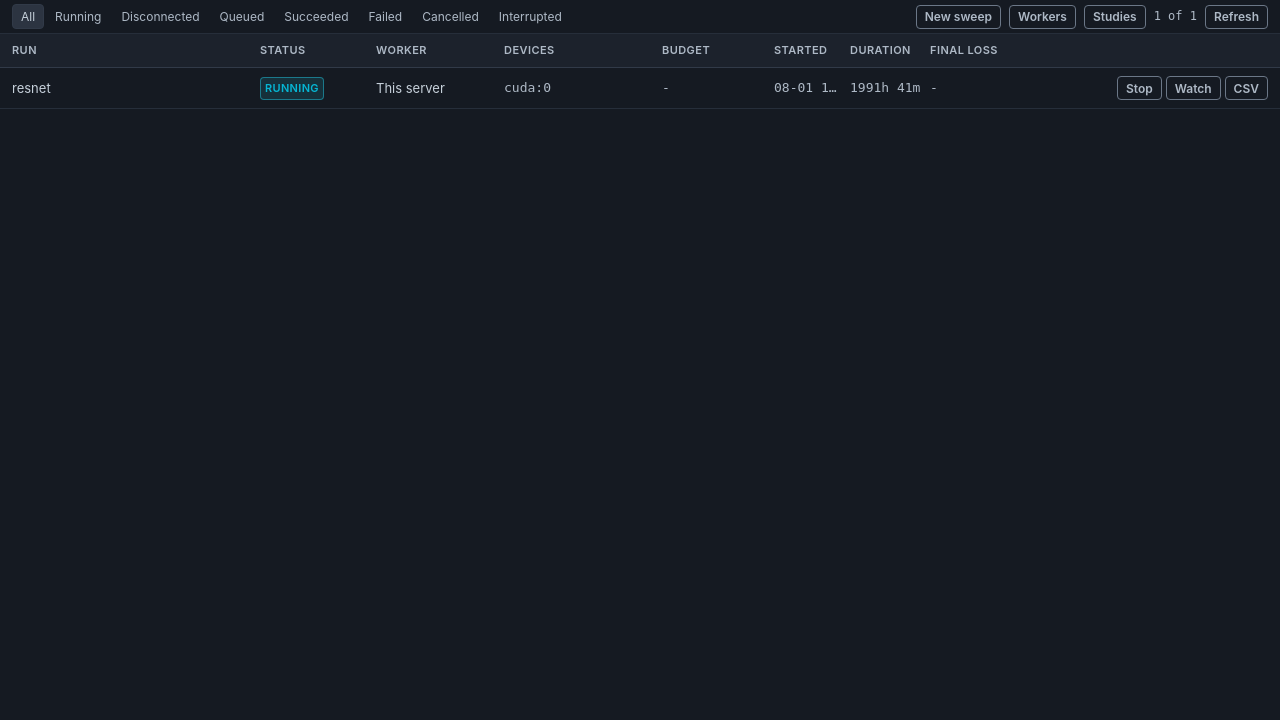
Test: RunsPanel — detail view › offers no download for a transfer row known only by an event-log key
Check: the text "resnet" is shown, box [12, 80, 51, 96]
Click the button with aria-label "resnet — Running" at (31, 88), box [0, 68, 1279, 109]
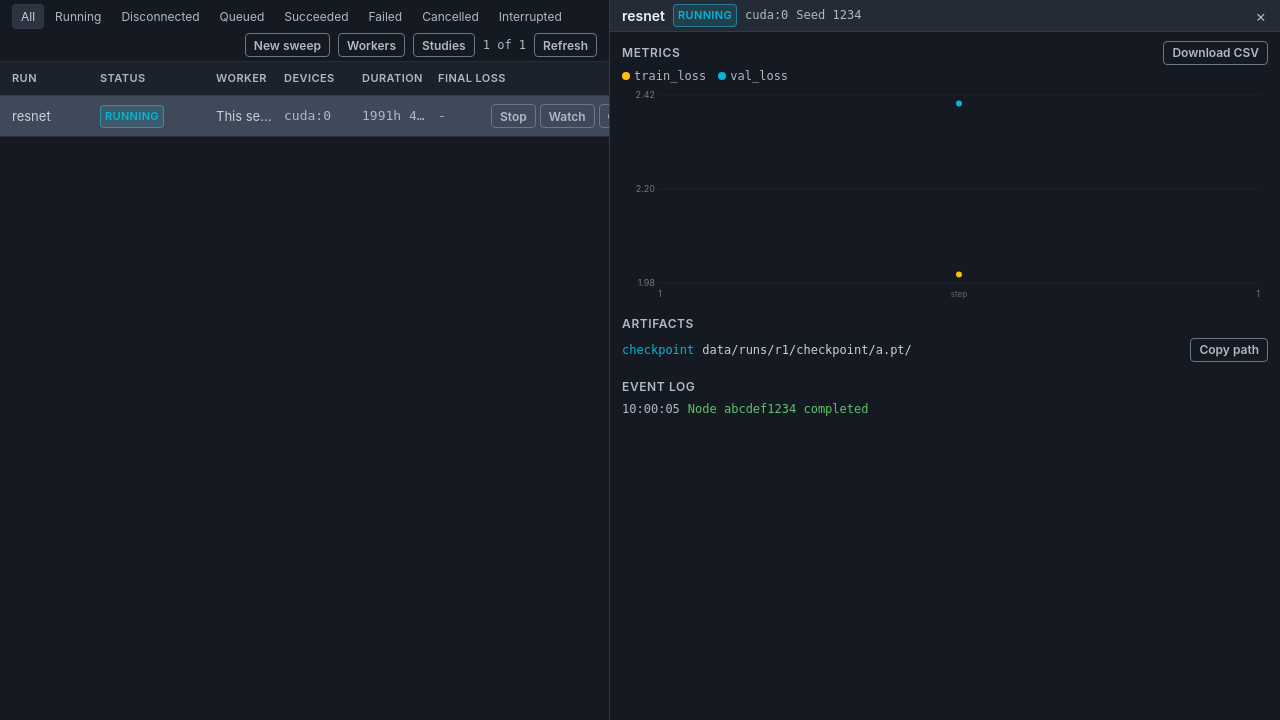
Check: the button titled "Copy path" is shown, box [1190, 338, 1268, 362]
